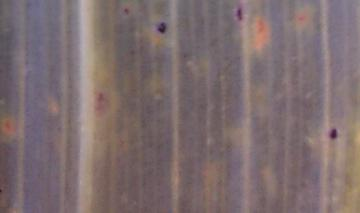tarspot: (157, 20, 167, 36), (236, 8, 244, 22), (328, 128, 338, 139), (122, 8, 130, 15)
